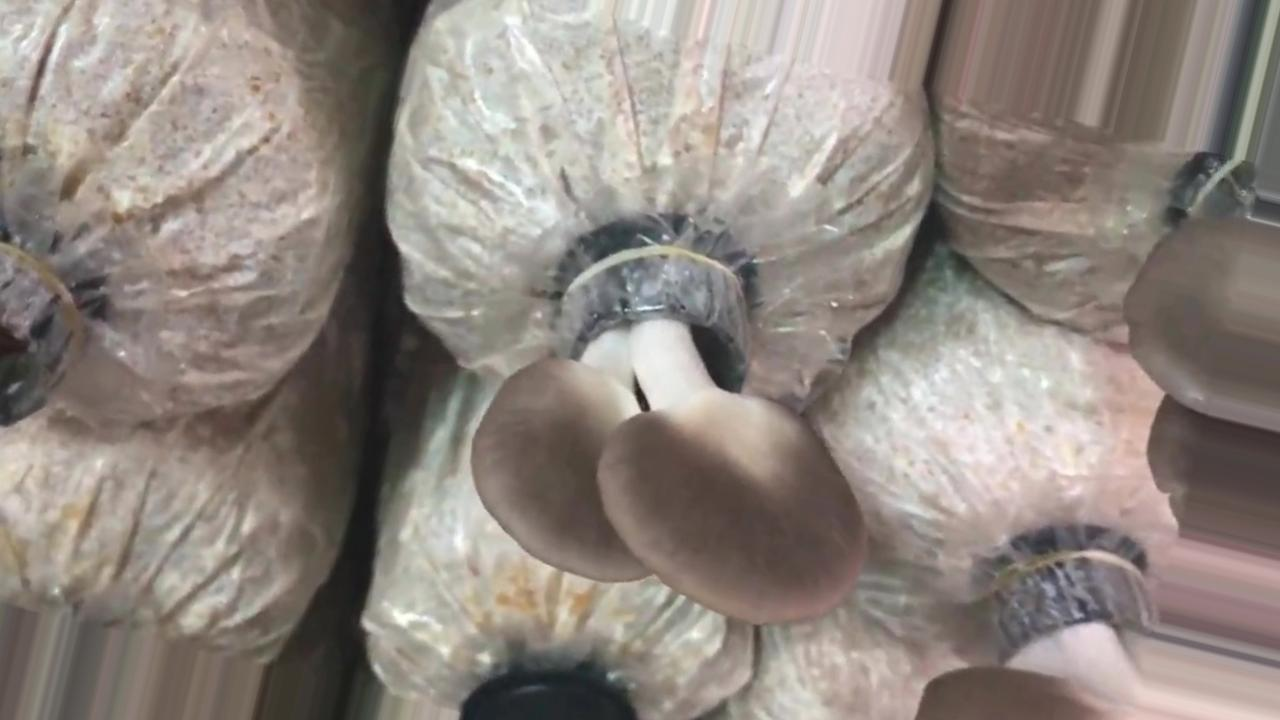nam: (470, 243, 861, 620)
